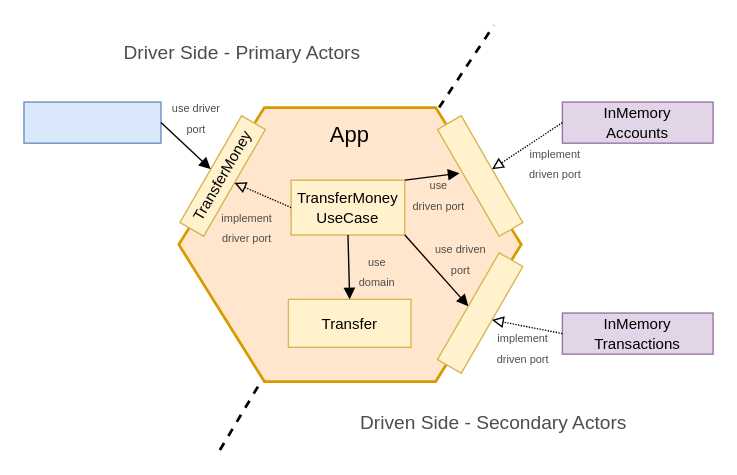
Image size: 737x475. Some labels were removed from this diagram. Here are the shapes that lost their labels. From the top down, the centre of each, then its label:
At (92,122): "TransferHttpRoutes".
At (479,175): "AccountFinder".
At (479,312): "Transactor".
